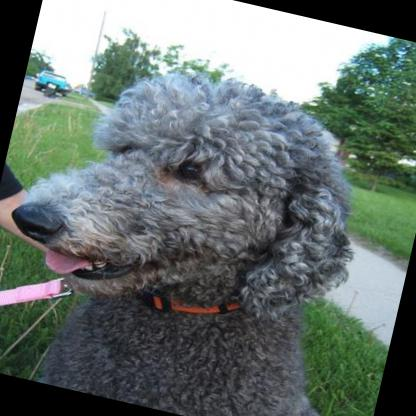miniature_poodle: (0, 34, 399, 416)
